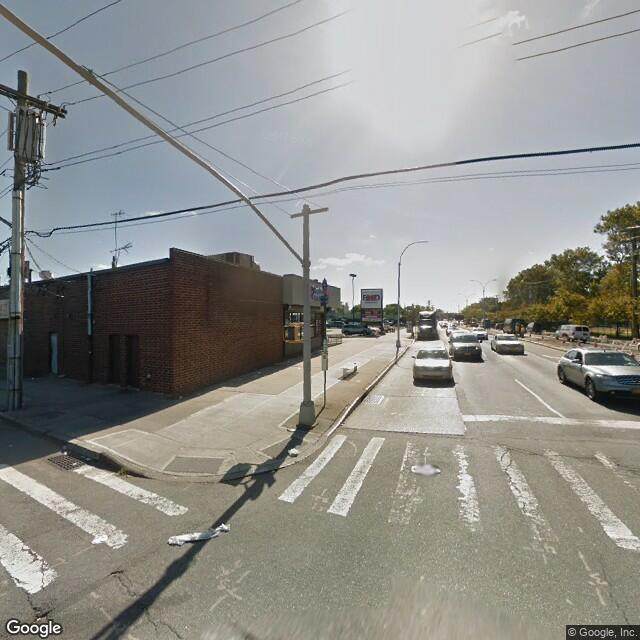litter: (166, 521, 233, 546), (411, 464, 442, 476), (287, 447, 297, 456), (56, 372, 65, 378), (27, 375, 37, 378), (61, 449, 67, 453), (256, 370, 262, 374), (72, 461, 78, 464), (177, 395, 184, 397)
